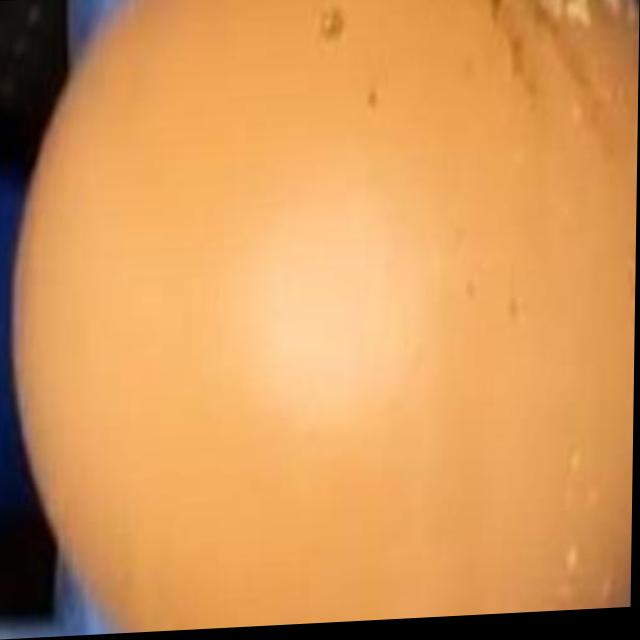fresh: (25, 0, 640, 639)
